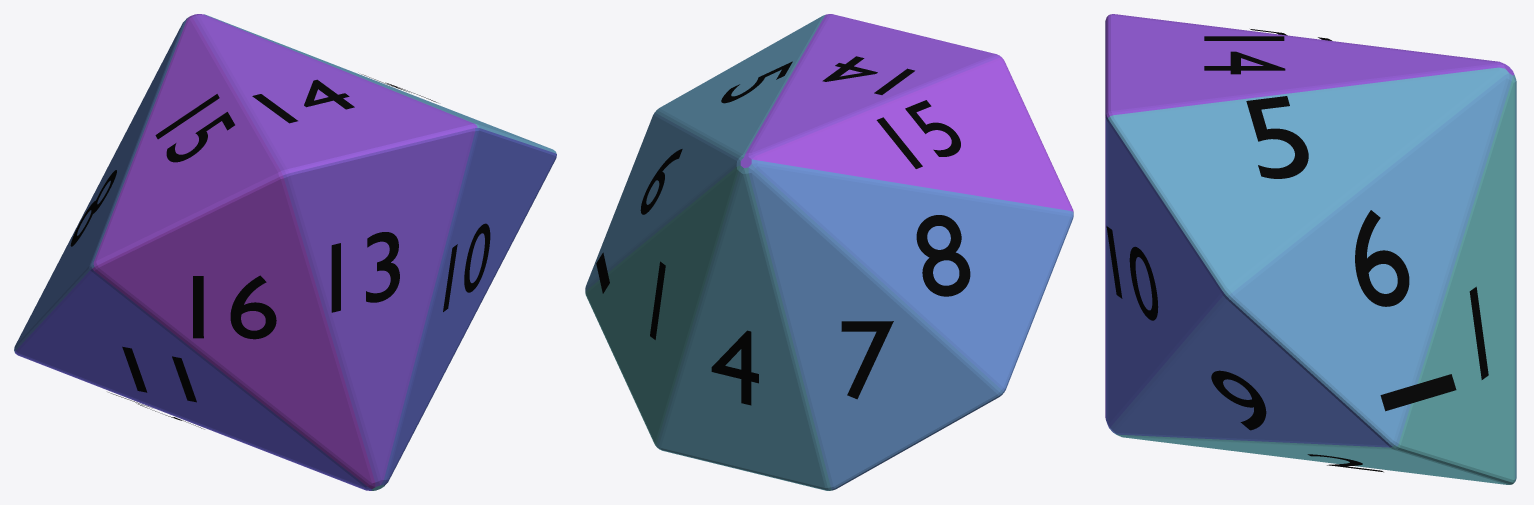
The picture shows the model from 3 angles, left to right: view 1: azimuth 30°, elevation 25°; view 2: azimuth 150°, elevation 25°; view 3: azimuth 270°, elevation 25°; orthographic projection. The views are drawn at different scales.
Parts seen in each view (by area): view 1: d16, d16_num; view 2: d16, d16_num; view 3: d16, d16_num.
Boxes of the visible parts, box(x1,y1,x2,y2) form: d16: box(14, 14, 556, 490); d16_num: box(70, 74, 490, 429); d16: box(585, 14, 1073, 490); d16_num: box(596, 56, 970, 405); d16: box(1105, 14, 1516, 484); d16_num: box(1106, 29, 1488, 472).
Bounding box in the file's own units: 2.61 × 1.89 × 1.89.
